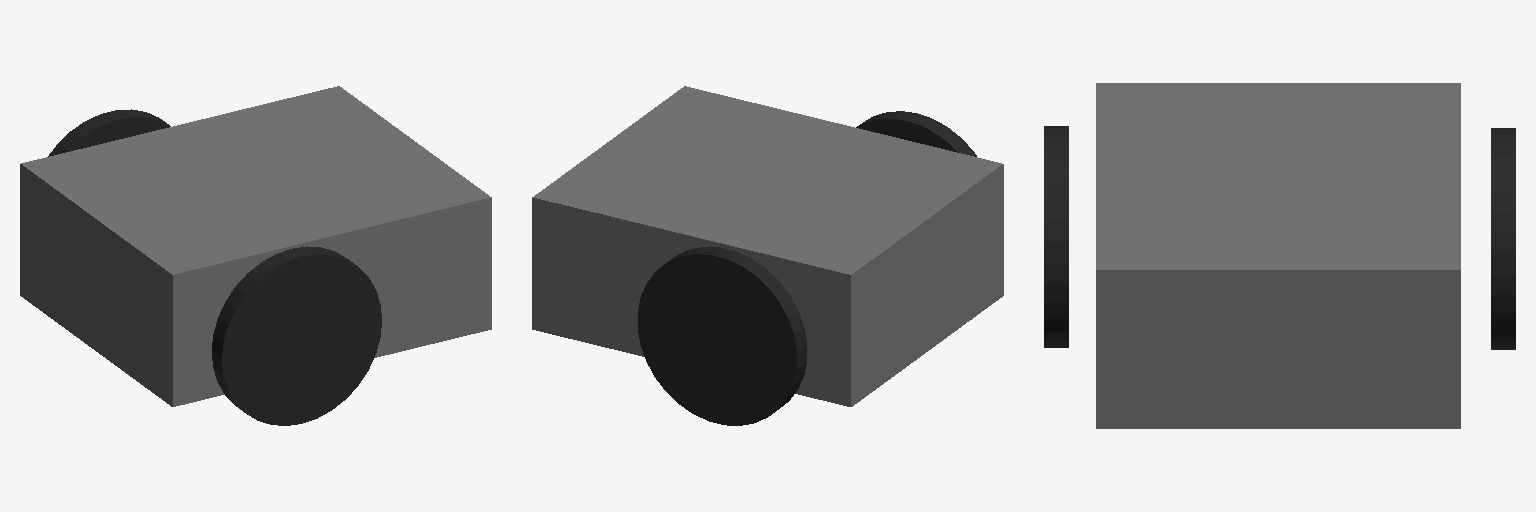
URDF robot description (differential_drive):
<?xml version="1.0"?>
<robot name="differential_drive">
    <material name="grey_light">
        <color rgba="0.5 0.5 0.5 1.0"/>
    </material>
    <material name="grey">
        <color rgba="0.2 0.2 0.2 1.0"/>
    </material>

    <link name="base_footprint">
        <inertial>
            <origin rpy="-3.141593 3.141593 -3.141593" xyz="0.000000 0.000000 0.000000" />
            <inertia izz="0.0084555726498365" iyz="0.0" ixz="0.0" iyy="0.0058123935014009" ixx="0.0042234761640429" ixy="0.0" />
            <mass value="1.8809319734573" />
        </inertial>
        <collision>
            <origin xyz="0.000000 0.000000 0.000000" rpy="-3.141593 3.141593 -3.141593" />
            <geometry>
                <box size="0.179000 0.148000 0.071000" />
            </geometry>
        </collision>
        <visual>
            <origin xyz="0.000000 0.000000 0.000000" rpy="-3.141593 3.141593 -3.141593" />
            <geometry>
                <box size="0.179000 0.148000 0.071000" />
            </geometry>
            <material name="grey_light"/>
        </visual>
        <!--visual>
            <origin xyz="-0.000000 0.000000 0.035000" rpy="-3.141593 3.141593 0.000000" />
            <geometry>
                <mesh filename="file://[local-path]/urdf_from_coppelia/differential_drive_Hokuyo_URG_04LX_UG01_body__70__.dae" />
            </geometry>
            <material name="Hokuyo_URG_04LX_UG01_body__70___material">
                <color rgba="1.000000 1.000000 0.111111 1.0" />
            </material>
        </visual-->
    </link>
    <link name="wheel_right">
        <inertial>
            <origin rpy="-3.141593 3.141593 -3.141593" xyz="0.000000 0.000000 0.000000" />
            <inertia izz="6.4412466599606e-05" iyz="0.0" ixz="0.0" iyy="3.2736381399445e-05" ixx="3.2736381399445e-05" ixy="0.0" />
            <mass value="0.063617251813412" />
        </inertial>
        <collision>
            <origin xyz="0.000000 0.000000 0.000000" rpy="-3.141593 3.141593 -3.141593" />
            <geometry>
                <cylinder length="0.0099999997764826" radius="0.045000001788139" />
            </geometry>
        </collision>
        <visual>
            <origin xyz="0.000000 0.000000 0.000000" rpy="-3.141593 3.141593 -3.141593" />
            <geometry>
                <cylinder length="0.0099999997764826" radius="0.045000001788139" />
            </geometry>
            <material name="grey"/>
        </visual>
    </link>

    <joint type="continuous" name="joint_right">
        <axis xyz="0 0 1" />
        <parent link="base_footprint" />
        <child link="wheel_right" />
        <origin xyz="-0.026999 0.091000 -0.005000" rpy="-1.570747 3.038619 -0.000005" />
    </joint>

    <link name="wheel_left">
        <inertial>
            <origin rpy="-3.141593 3.141593 -3.141593" xyz="0.000000 0.000000 0.000000" />
            <inertia izz="6.4412466599606e-05" iyz="0.0" ixz="0.0" iyy="3.2736381399445e-05" ixx="3.2736381399445e-05" ixy="0.0" />
            <mass value="0.063617251813412" />
        </inertial>
        <collision>
            <origin xyz="0.000000 0.000000 0.000000" rpy="-3.141593 3.141593 -3.141593" />
            <geometry>
                <cylinder length="0.0099999997764826" radius="0.045000001788139" />
            </geometry>
        </collision>
        <visual>
            <origin xyz="0.000000 0.000000 0.000000" rpy="-3.141593 3.141593 -3.141593" />
            <geometry>
                <cylinder length="0.0099999997764826" radius="0.045000001788139" />
            </geometry>
            <material name="grey"/>
        </visual>
    </link>

    <joint type="continuous" name="joint_left">
        <axis xyz="0 0 1" />
        <parent link="base_footprint" />
        <child link="wheel_left" />
        <origin xyz="-0.029000 -0.090000 -0.005000" rpy="-1.570796 1.570796 0.000000" />
    </joint>
</robot>

--- Facts derived from the render (not from the file) ---
Views: 3 orthographic renders of the robot side by side, from view 1: azimuth 30°, elevation 25°; view 2: azimuth 150°, elevation 25°; view 3: azimuth 270°, elevation 25°.
Model differential_drive with 3 links and 2 joints (2 continuous), rooted at base_footprint, posed all joints at 0.
Visible links, largest first — view 1: base_footprint, wheel_left, wheel_right; view 2: base_footprint, wheel_right, wheel_left; view 3: base_footprint, wheel_right, wheel_left.
Link boxes in pixels (x1=…): base_footprint: x1=20, y1=86, x2=491, y2=406; wheel_left: x1=212, y1=246, x2=381, y2=425; wheel_right: x1=48, y1=109, x2=170, y2=156; base_footprint: x1=532, y1=86, x2=1003, y2=406; wheel_right: x1=638, y1=247, x2=806, y2=425; wheel_left: x1=856, y1=111, x2=976, y2=156; base_footprint: x1=1096, y1=83, x2=1460, y2=428; wheel_right: x1=1491, y1=128, x2=1515, y2=349; wheel_left: x1=1044, y1=126, x2=1068, y2=347.
Bounding box of the posed robot: 0.179 × 0.191 × 0.09 m (x, y, z).
Geometry: primitives only (box / cylinder / sphere), no mesh files.